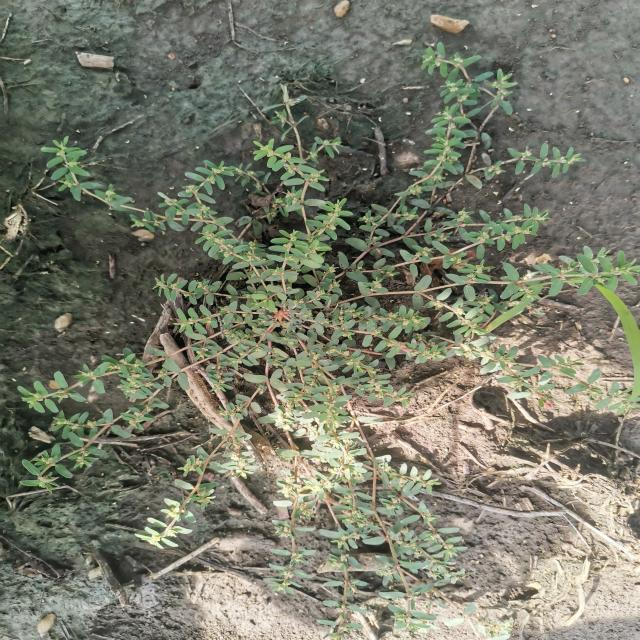SpottedSpurge: (11, 41, 636, 638)
